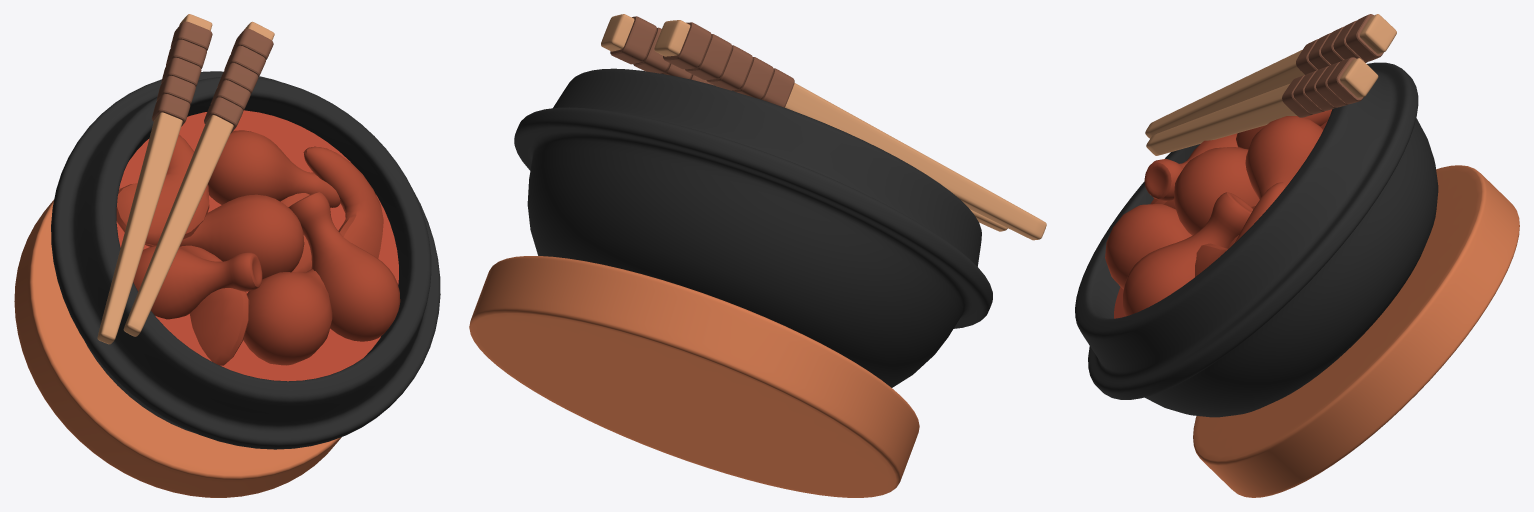
Rendered from chicken gochujang.glb.
3 renders of one model, left to right at view 1: azimuth 30°, elevation 25°; view 2: azimuth 150°, elevation 25°; view 3: azimuth 270°, elevation 25°, orthographic. The views are drawn at different scales.
Parts seen in each view (by area): view 1: Sphere.018, Cylinder.185, Circle.022, Cube.125, Cube.121, Cube.115, Cube.119, Cube.117, Cube.123, Cube.127, Cube.124, Cube.122 (+4 smaller); view 2: Sphere.018, Cylinder.185, Cube.119, Cube.120, Cube.118, Cube.117; view 3: Sphere.018, Cylinder.185, Cube.125, Cube.117, Cube.115, Cube.119, Cube.123, Cube.121, Cube.118, Cube.120, Cube.127, Cube.124 (+1 smaller).
Part boxes in pixels (box(x1,y1,x2,y2)): Sphere.018: box(51, 71, 440, 449); Cylinder.185: box(14, 199, 341, 497); Circle.022: box(116, 110, 398, 381); Cube.125: box(288, 192, 400, 341); Cube.121: box(243, 269, 332, 365); Cube.115: box(145, 194, 304, 278); Cube.119: box(97, 14, 212, 344); Cube.117: box(123, 21, 274, 336); Cube.123: box(208, 130, 340, 207); Cube.127: box(133, 245, 262, 319); Cube.124: box(303, 146, 383, 258); Cube.122: box(179, 245, 249, 365); Sphere.018: box(514, 68, 992, 387); Cylinder.185: box(469, 256, 919, 497); Cube.119: box(654, 20, 1046, 240); Cube.120: box(663, 22, 794, 107); Cube.118: box(610, 16, 713, 85); Cube.117: box(601, 14, 1007, 231); Sphere.018: box(1075, 62, 1438, 417); Cylinder.185: box(1193, 165, 1519, 497); Cube.125: box(1123, 192, 1252, 316); Cube.117: box(1146, 58, 1378, 155); Cube.115: box(1174, 147, 1259, 235); Cube.119: box(1145, 14, 1396, 138); Cube.123: box(1245, 116, 1323, 199); Cube.121: box(1105, 204, 1191, 289); Cube.118: box(1282, 57, 1363, 117); Cube.120: box(1296, 14, 1383, 74); Cube.127: box(1144, 133, 1237, 201); Cube.124: box(1195, 182, 1287, 276).
Bounding box in the file's own units: 2.64 × 2.92 × 2.56.
